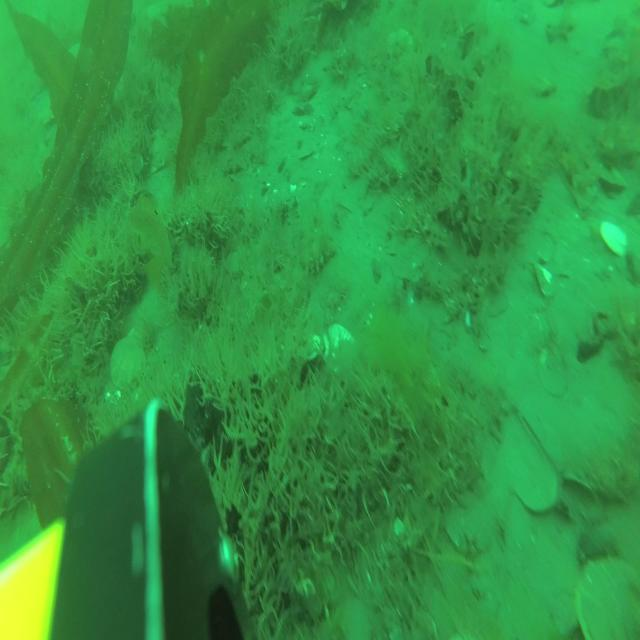scallop: (578, 554, 640, 640), (112, 328, 147, 385), (323, 324, 357, 369), (599, 217, 629, 258)
